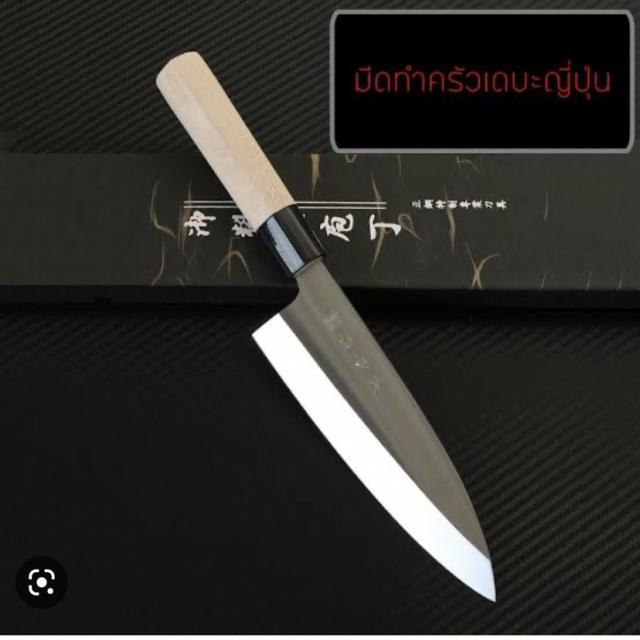Knife: (145, 45, 506, 605)
